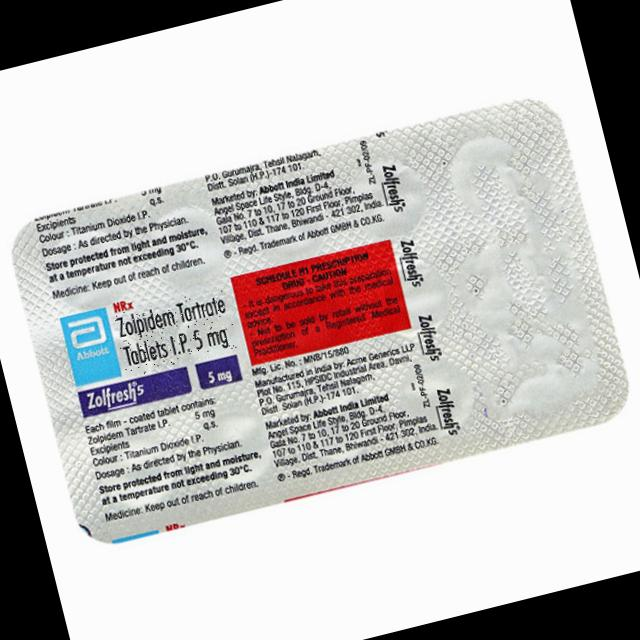Medicine-name: (112, 288, 240, 379)
